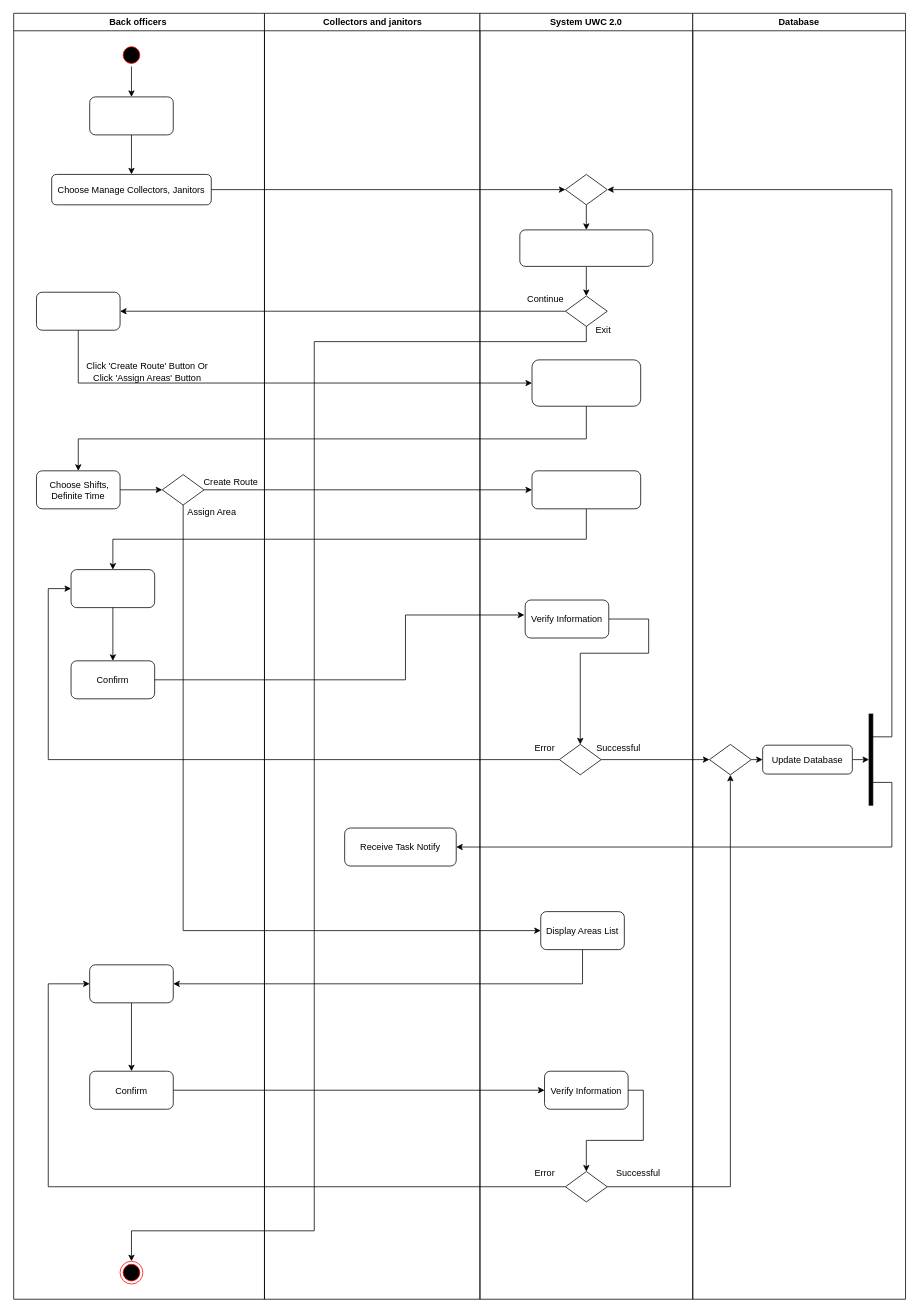
Image size: 919x1313. Some labels were removed from this diagram. The centre of each missing label's shape, as x and y in pixels:
"Choose Action" belongs at point (78, 310).
"Choose Areas" belongs at point (131, 983).
"Choose Vehicles And Routes" belongs at point (112, 588).
"Display Manage Collectors, Janitors Interface" belongs at point (586, 247).
"Display Shifts List" belongs at point (586, 382).
"Display Vehicles And Routes List" belongs at point (586, 489).
"View Manage Page" belongs at point (131, 115).
